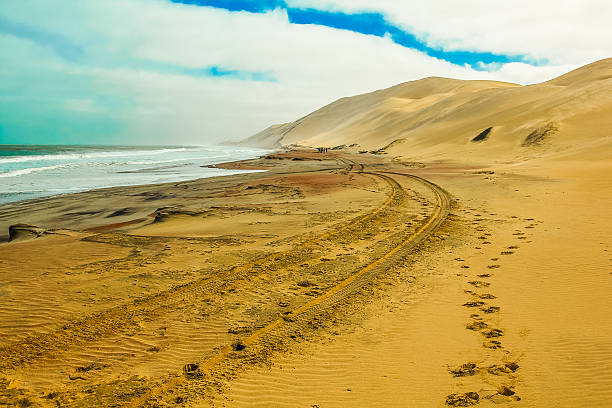human_foot_print: (446, 244, 519, 405)
